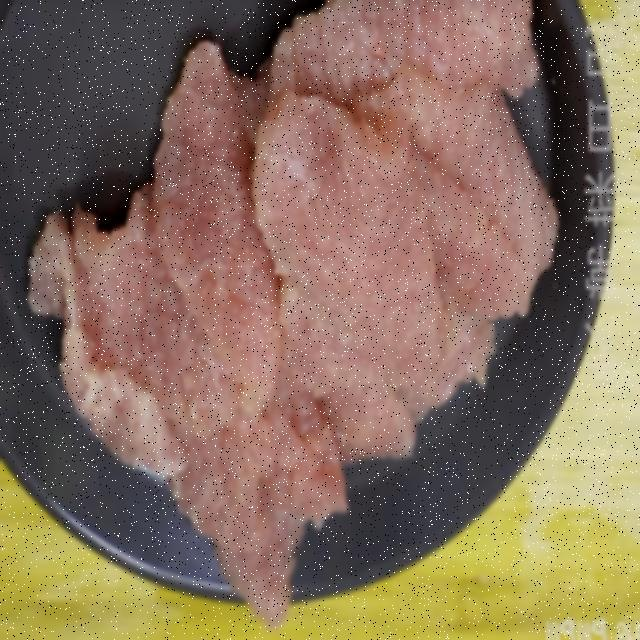pork: (29, 0, 581, 611)
